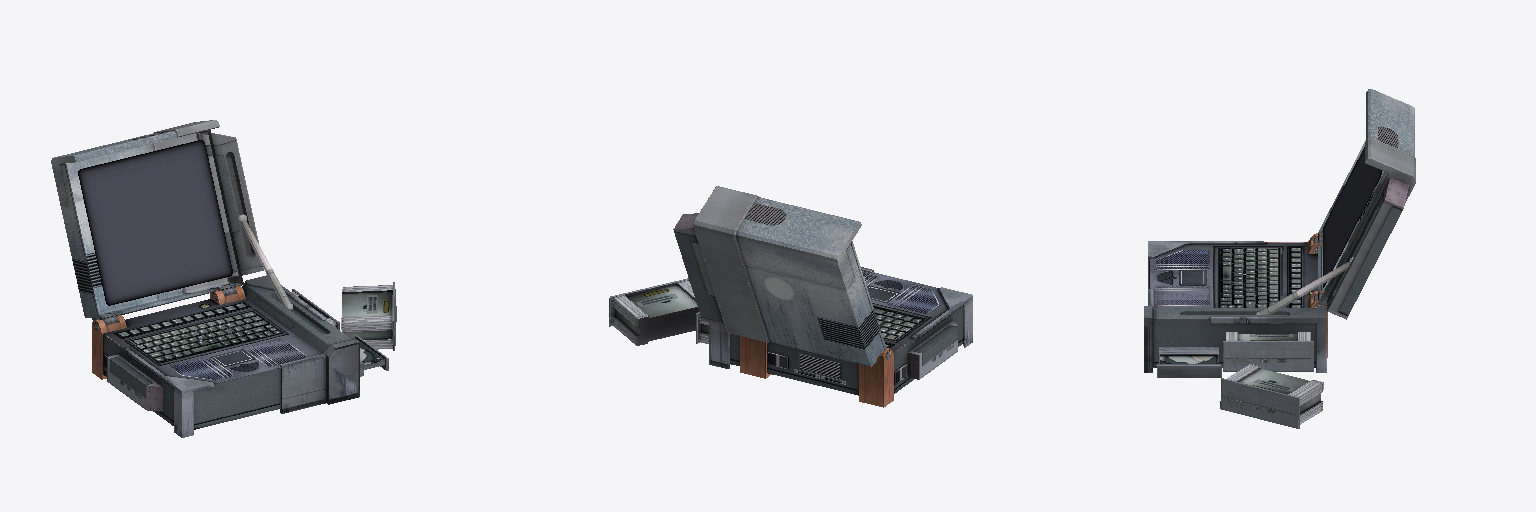
The picture shows the model from 3 angles: view 1: azimuth 30°, elevation 25°; view 2: azimuth 150°, elevation 25°; view 3: azimuth 270°, elevation 25°; orthographic projection.
Bounding box in the file's own units: 1.85 × 1.19 × 1.46.
Materials: 2 (2 with a texture image).